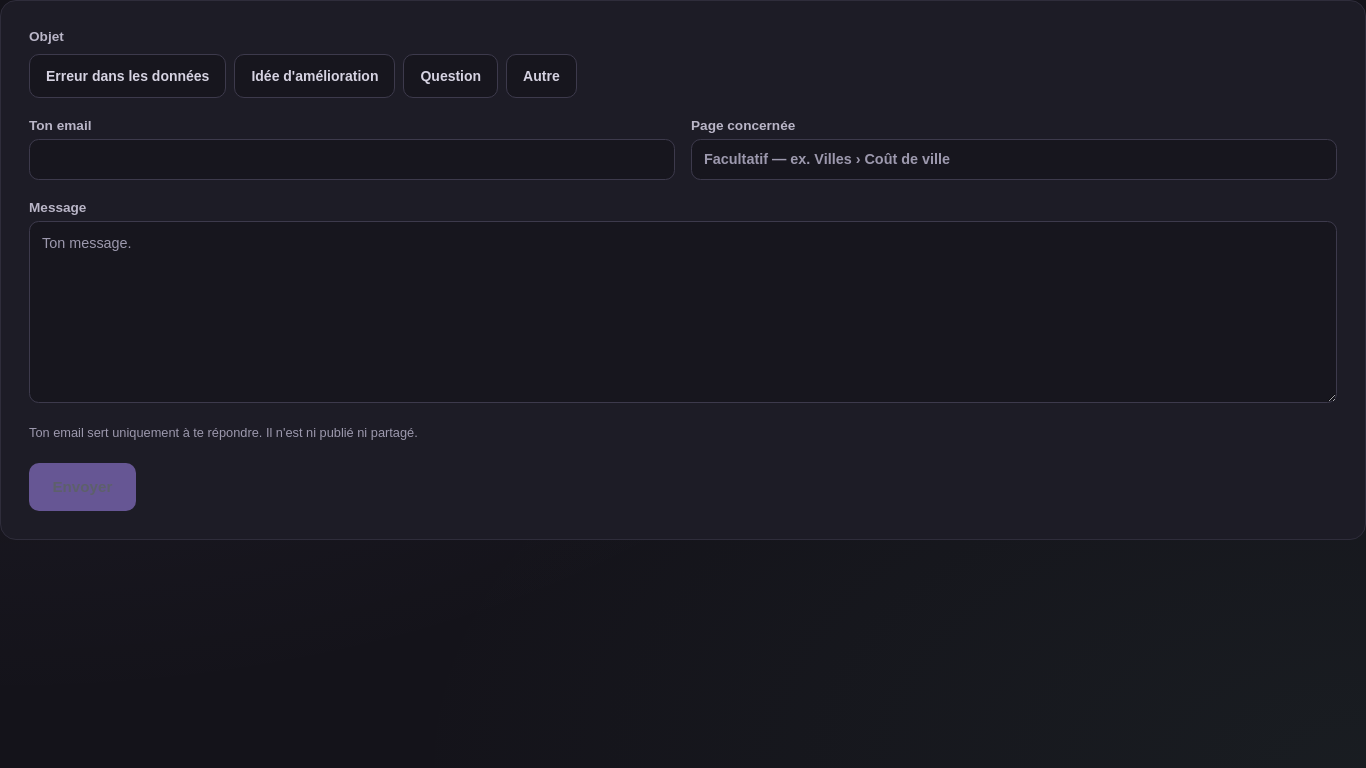
Test case: ContactForm › l'objet en pastilles › garde l'envoi fermé tant qu'aucun objet n'est choisi
Expected: the button "Envoyer" is disabled, 29,463 -> 136,511
Click the button "Question": {"x": 451, "y": 76} 403,54 -> 498,98
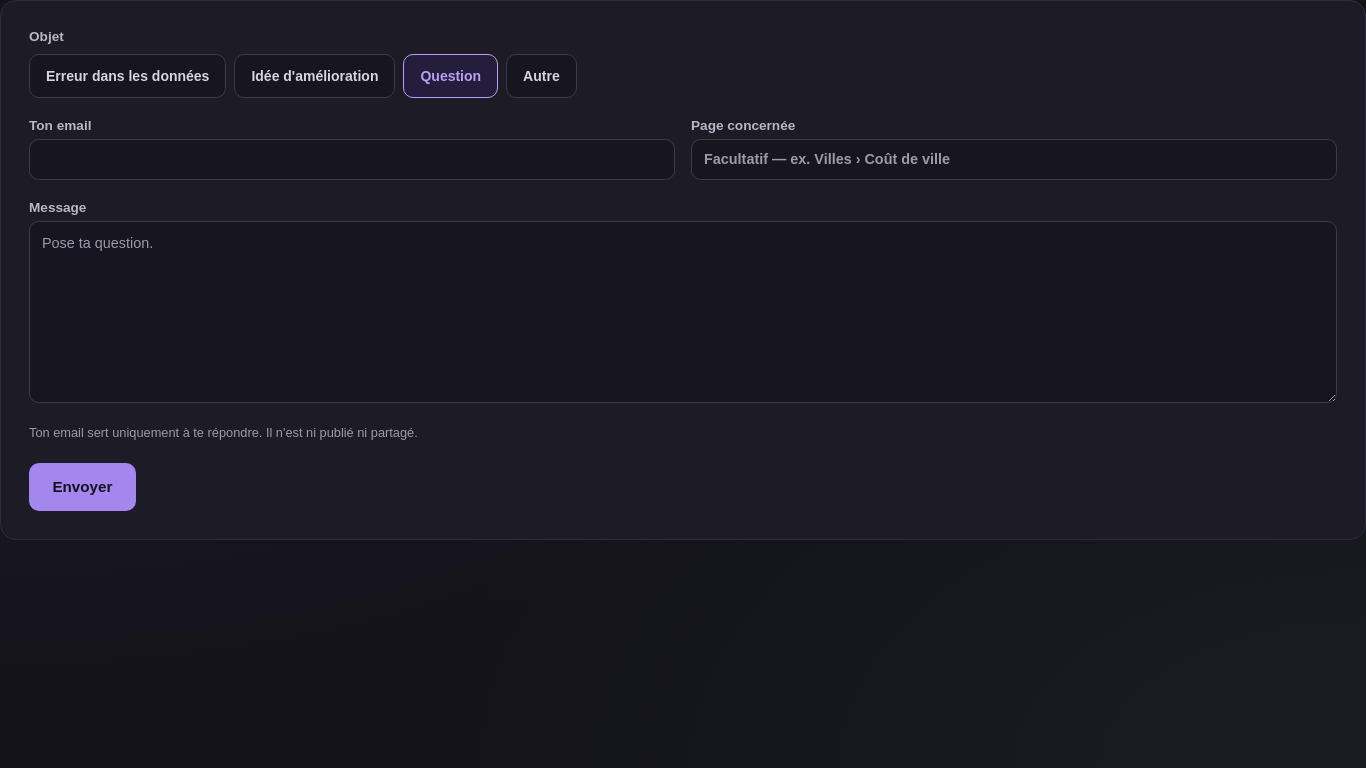
Expected: the button "Envoyer" is enabled, 29,463 -> 136,511
